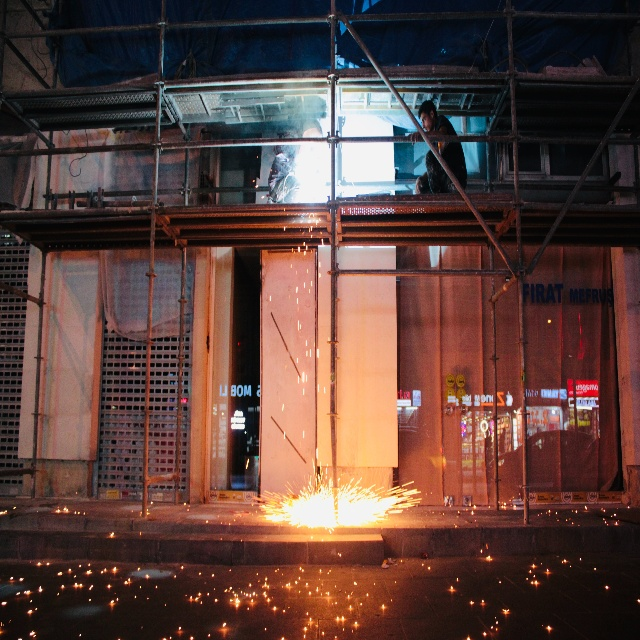Sin_guantes: (408, 132, 421, 145), (415, 176, 423, 195)
